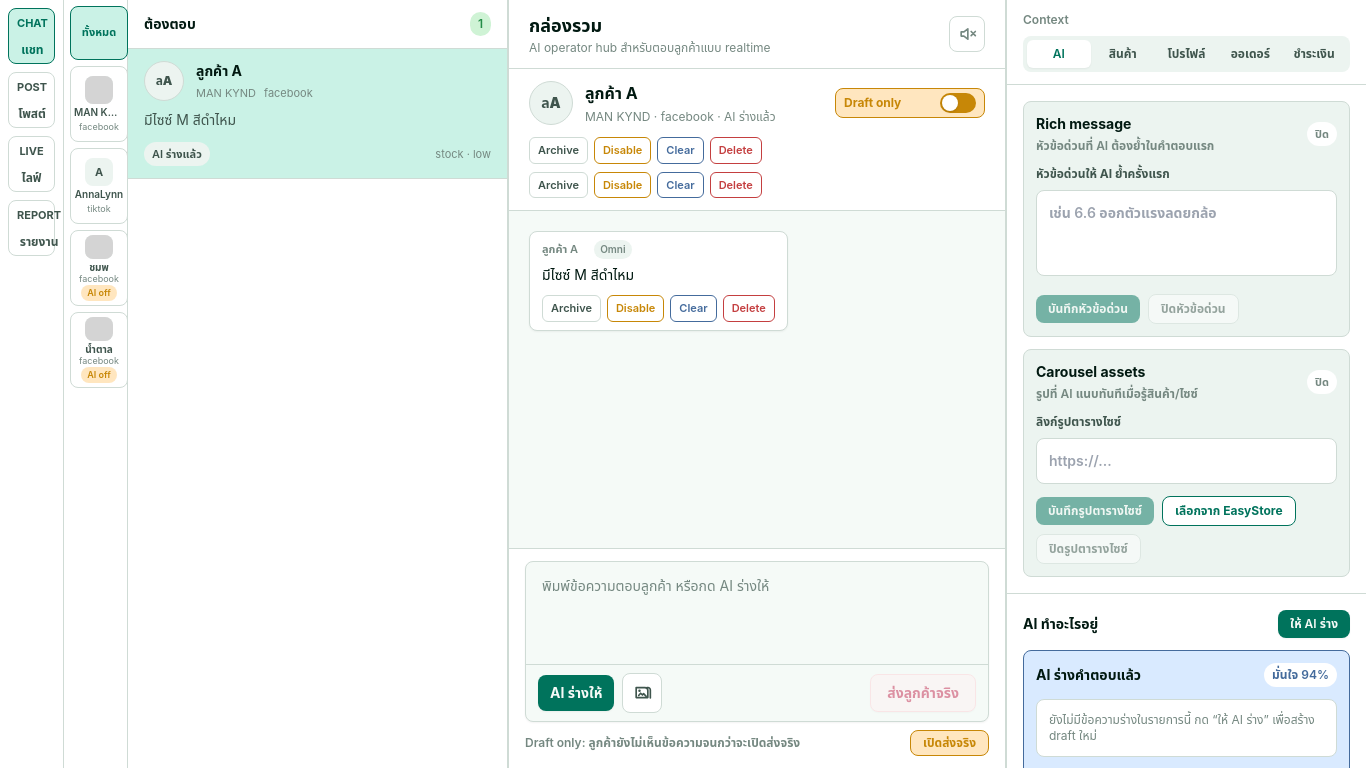
OmniWorkbench › clears composer text from the small top-right x button instead of a text clear button
The image size is (1366, 768).
Type "ข้อความที่ต้องล้าง" into the text box with placeholder "พิมพ์ข้อความตอบลูกค้า หรือกด AI ร่างให้" at coordinates (757, 610), box [526,562,988,658]
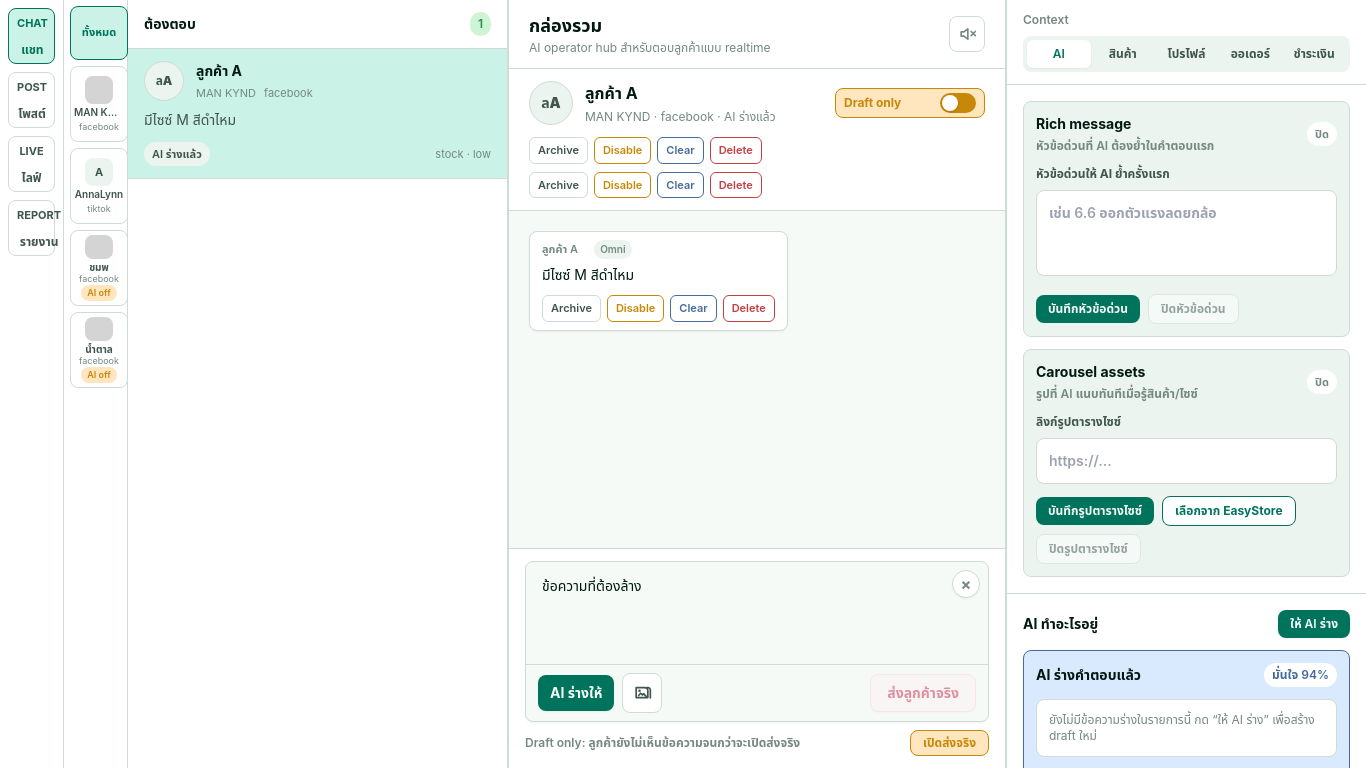
Click the button named "ล้างข้อความ" at coordinates (966, 584), box [952,570,980,598]
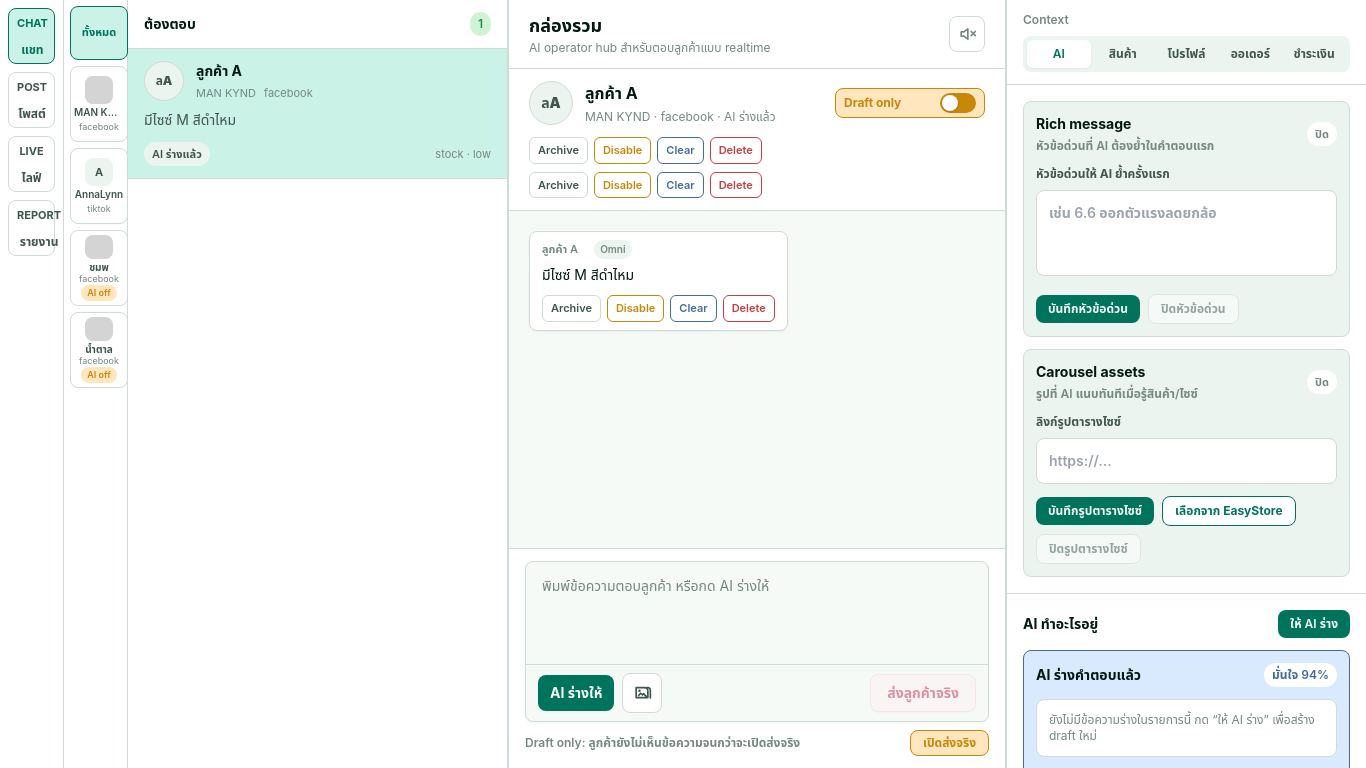
Now the text box with placeholder "พิมพ์ข้อความตอบลูกค้า หรือกด AI ร่างให้" is empty, box [526,562,988,658]
Now the button "ล้างข้อความ" is gone
